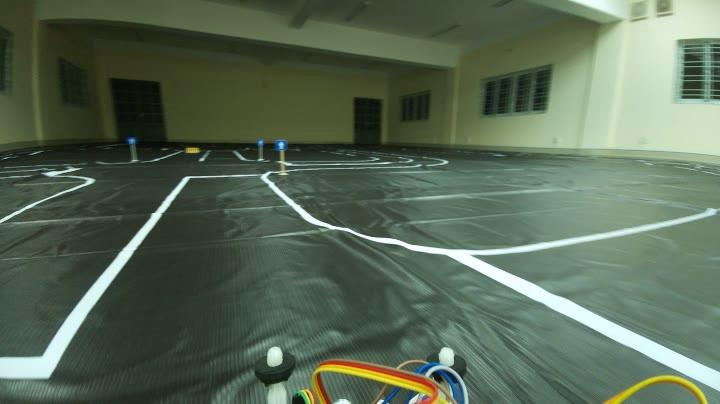onewayroad: (274, 139, 288, 150), (126, 136, 138, 146), (258, 136, 266, 146)
roadblock: (182, 147, 204, 155)
